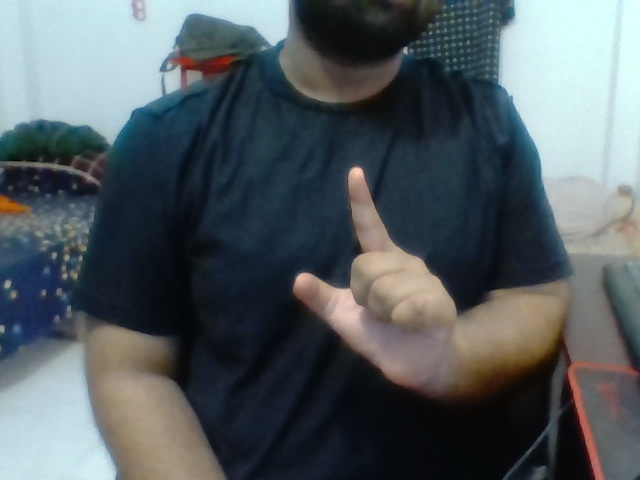J: (286, 154, 470, 377)
